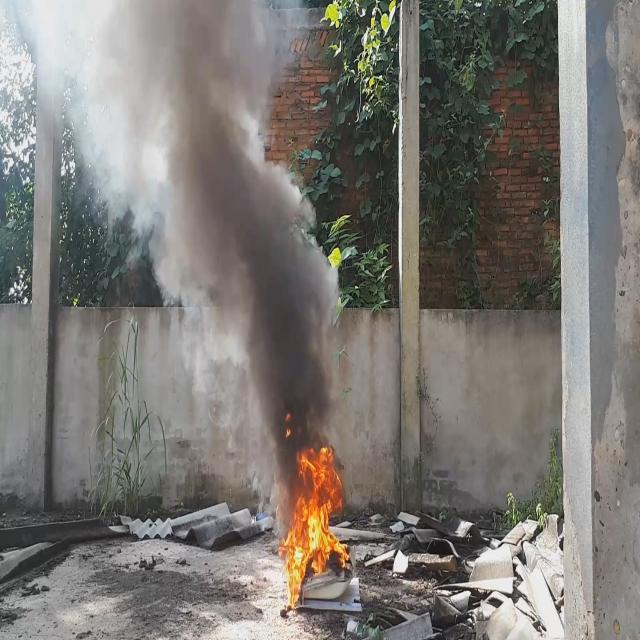Fire: (285, 440, 347, 610)
Smoke: (17, 0, 346, 529)
